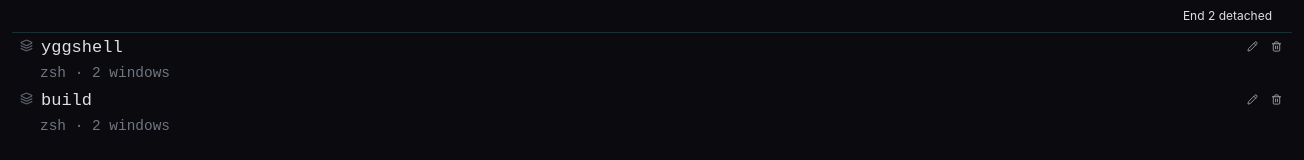
Scenario: TmuxTool › starts a rename without opening a tab either
Click the button named "Rename build" at (1252,100), box [1244,92,1260,108]
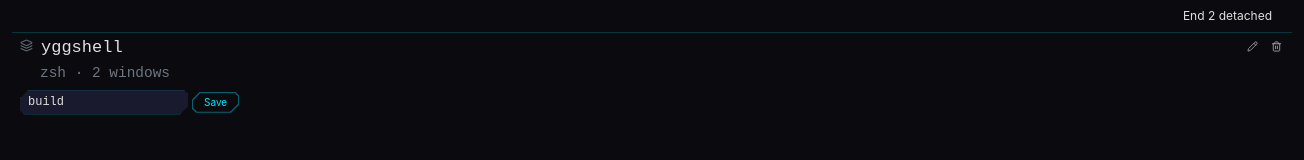
expect the field named "Session name" is shown: met, box [20,90,188,114]
